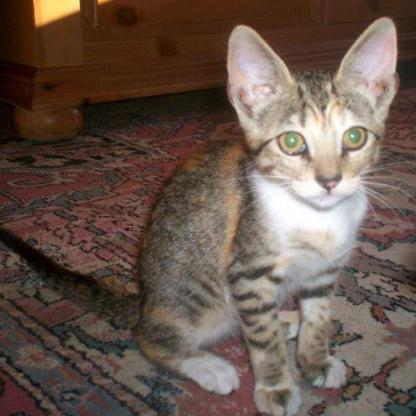cat: (130, 14, 392, 393)
